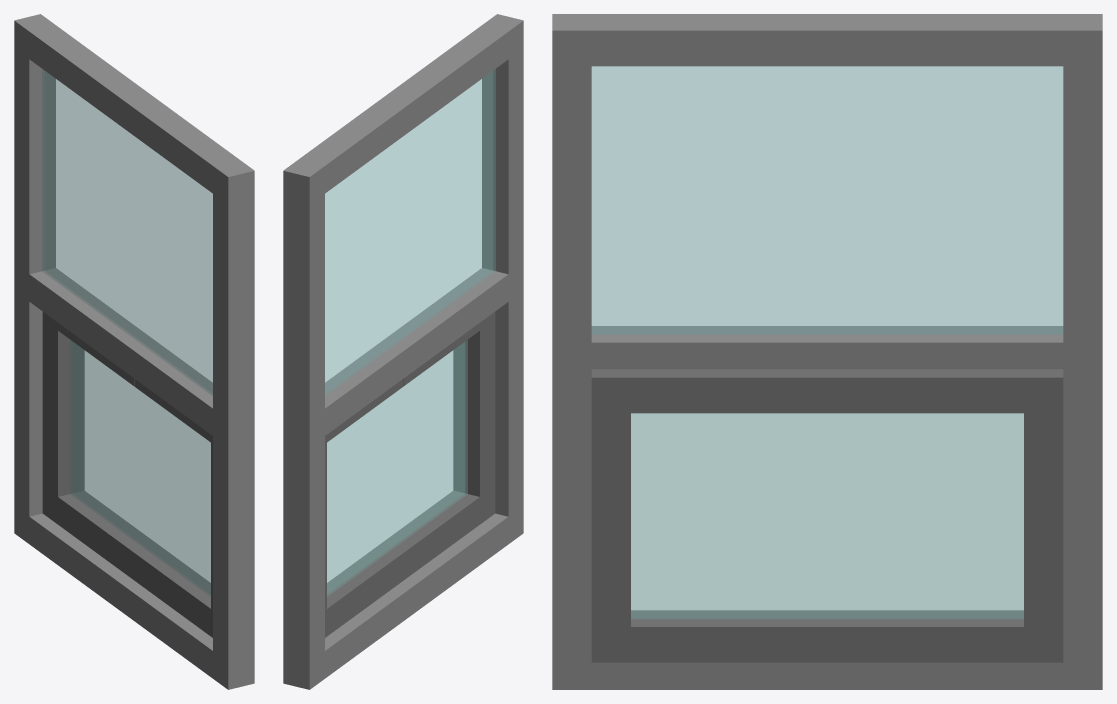
File: window!.fbx
3 renders of one model, left to right at view 1: azimuth 30°, elevation 25°; view 2: azimuth 150°, elevation 25°; view 3: azimuth 270°, elevation 25°, orthographic. The views are drawn at different scales.
Parts seen in each view (by area): view 1: Cube.003, Cube.004, Cube.001, Cube; view 2: Cube.003, Cube.004, Cube.001, Cube; view 3: Cube.004, Cube.003, Cube.001, Cube.
Part boxes in pixels (x1,y1,x2,y2): Cube.003: (14,14,254,689); Cube.004: (42,69,212,395); Cube.001: (70,340,210,596); Cube: (42,312,212,637); Cube.003: (283,14,523,689); Cube.004: (325,69,495,395); Cube.001: (327,340,467,596); Cube: (325,312,495,637); Cube.004: (591,66,1063,334); Cube.003: (552,14,1102,689); Cube.001: (631,413,1023,619); Cube: (591,369,1063,662).
Size of the model in its own units: 30 by 370 by 280.
